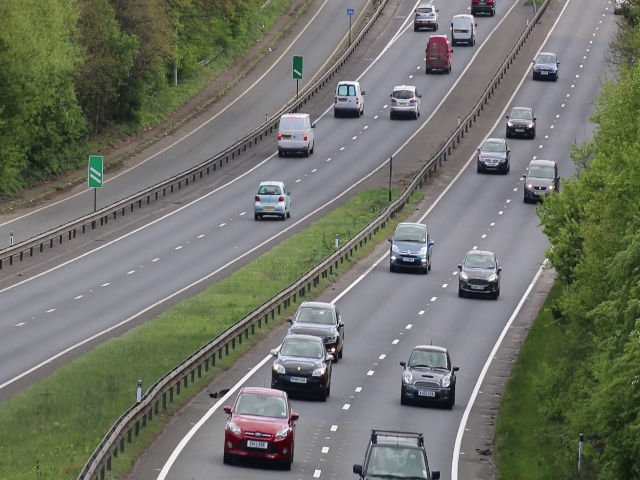car: (227, 385, 294, 473), (270, 335, 332, 402), (401, 343, 456, 409), (362, 430, 431, 480), (387, 220, 434, 274), (460, 248, 500, 298), (520, 159, 558, 205), (253, 180, 294, 221), (293, 300, 339, 334), (476, 134, 511, 177), (278, 114, 313, 156), (502, 103, 538, 139), (332, 81, 366, 118), (423, 34, 452, 74), (389, 84, 422, 118), (532, 49, 558, 84), (451, 13, 477, 47), (411, 4, 439, 32)
